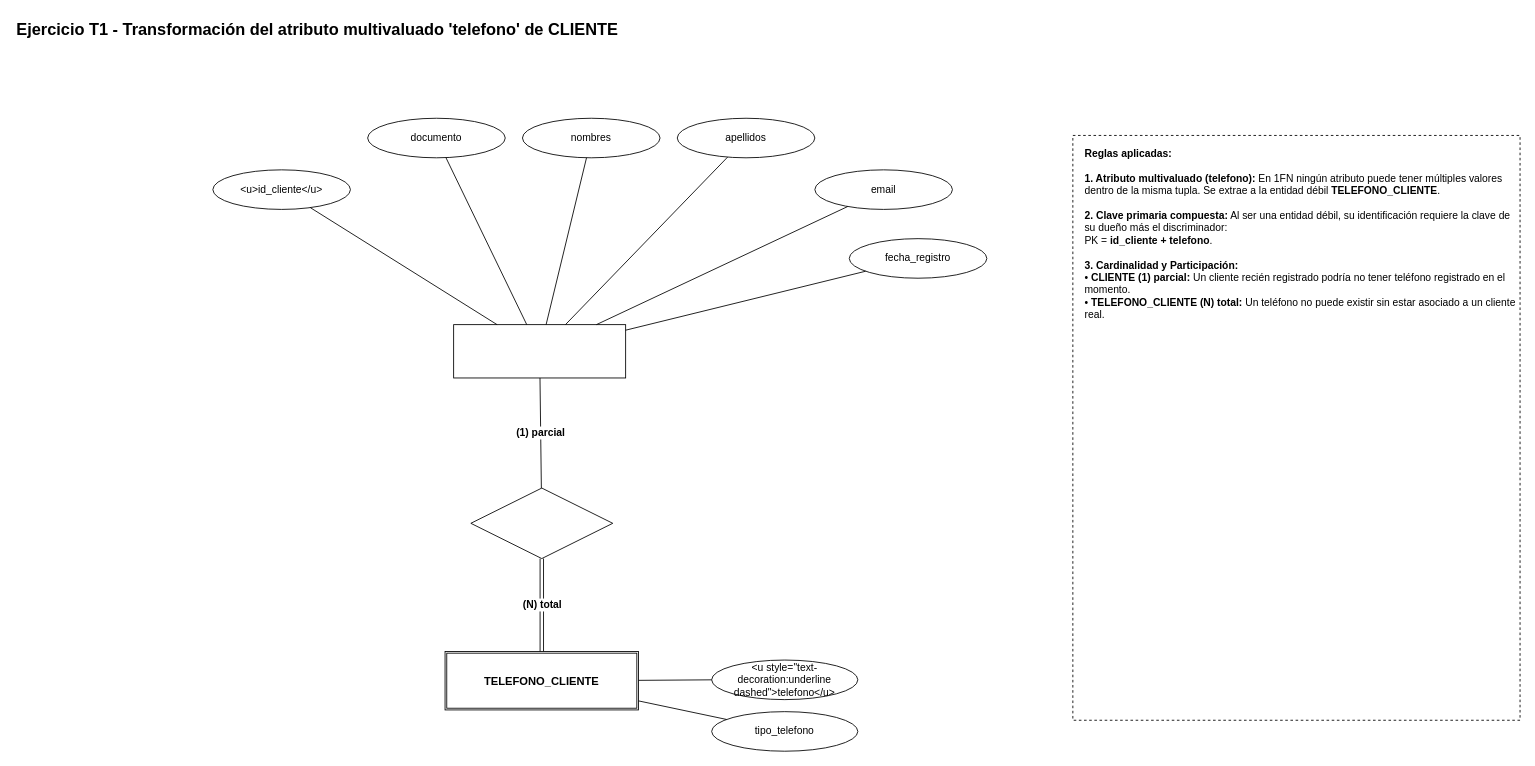
Some shapes in this 1535 by 766 pixel diagram are drawn without their labels. Here are the shapes that lost their labels. From the top down, the box of each, then its label:
(453, 324, 626, 378): CLIENTE
(470, 487, 613, 559): TIENE_TELEFONO
